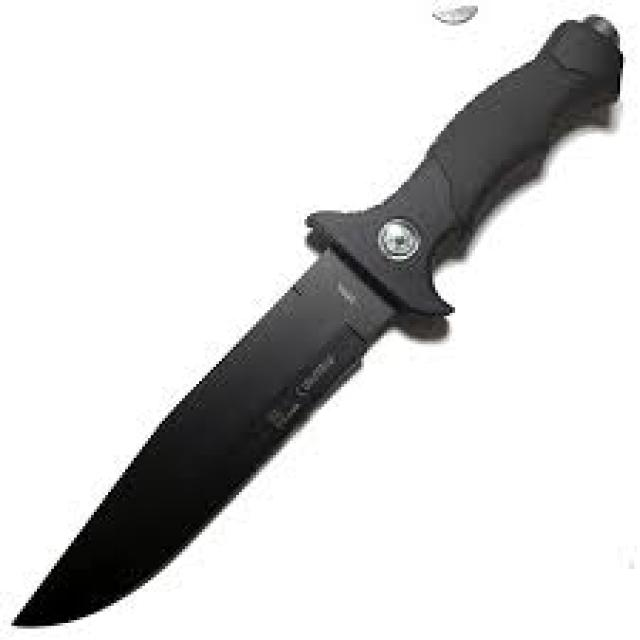knife: (9, 1, 636, 631)
